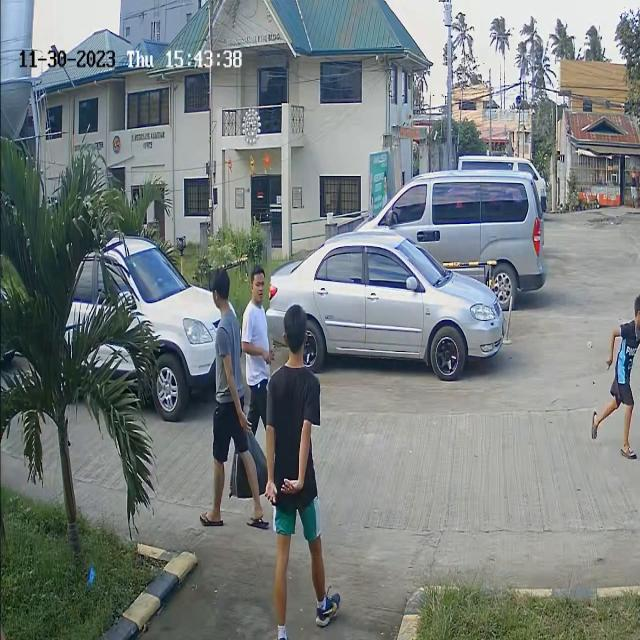person: (204, 269, 250, 403), (610, 267, 640, 401), (242, 266, 272, 358)
